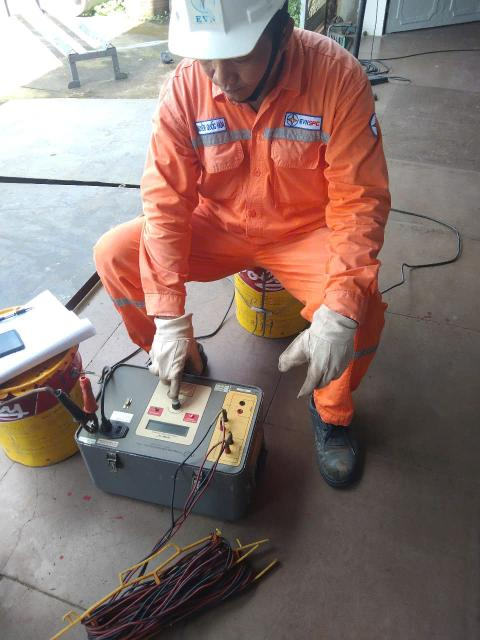gloves: (277, 302, 360, 401), (128, 317, 220, 399)
helmet: (128, 0, 320, 79)
shoes: (297, 398, 375, 497)
